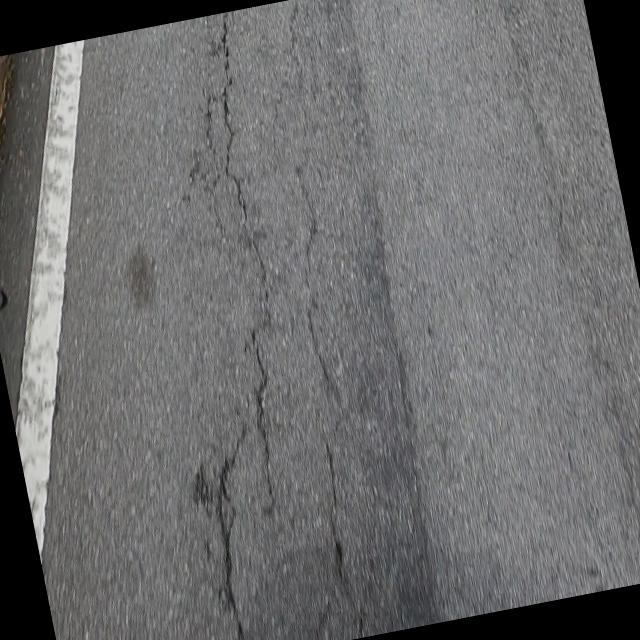Retak-Memanjang: (218, 14, 280, 511), (215, 430, 249, 640), (327, 447, 366, 629)
